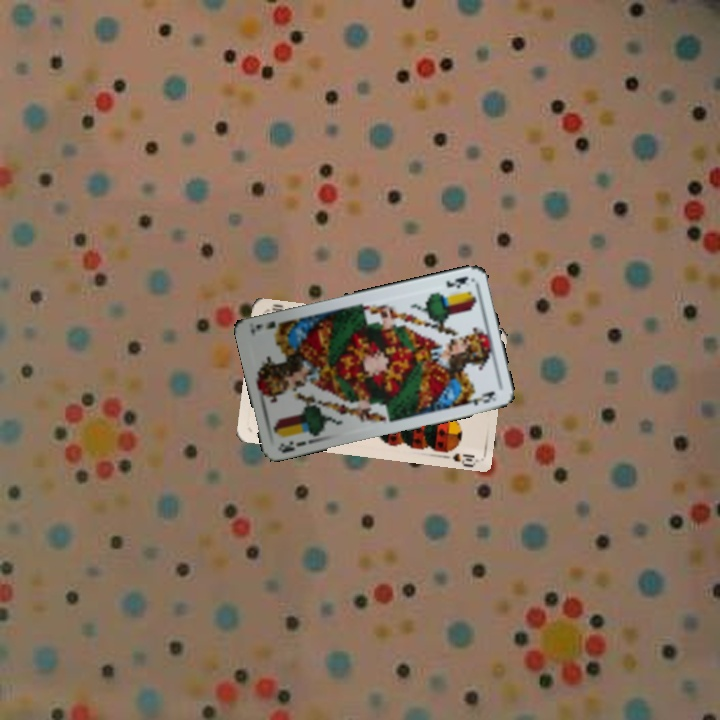EK: (275, 436, 308, 455), (442, 273, 470, 291)
